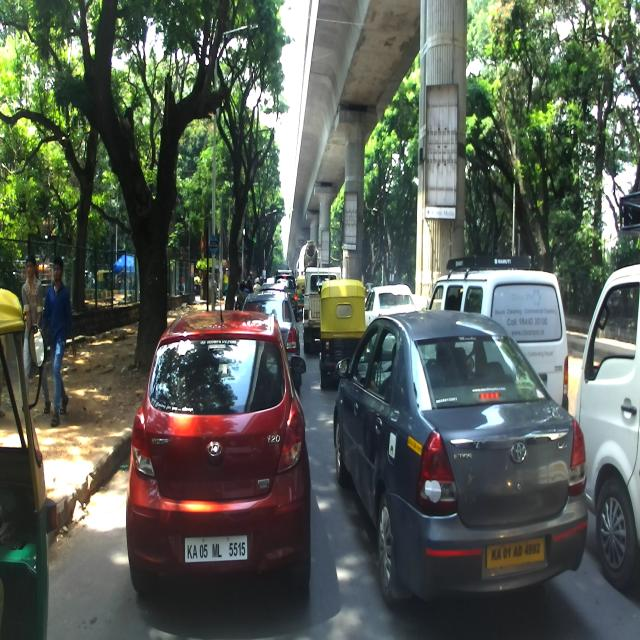car ahead at: (332, 305, 591, 593), (126, 316, 313, 612)
